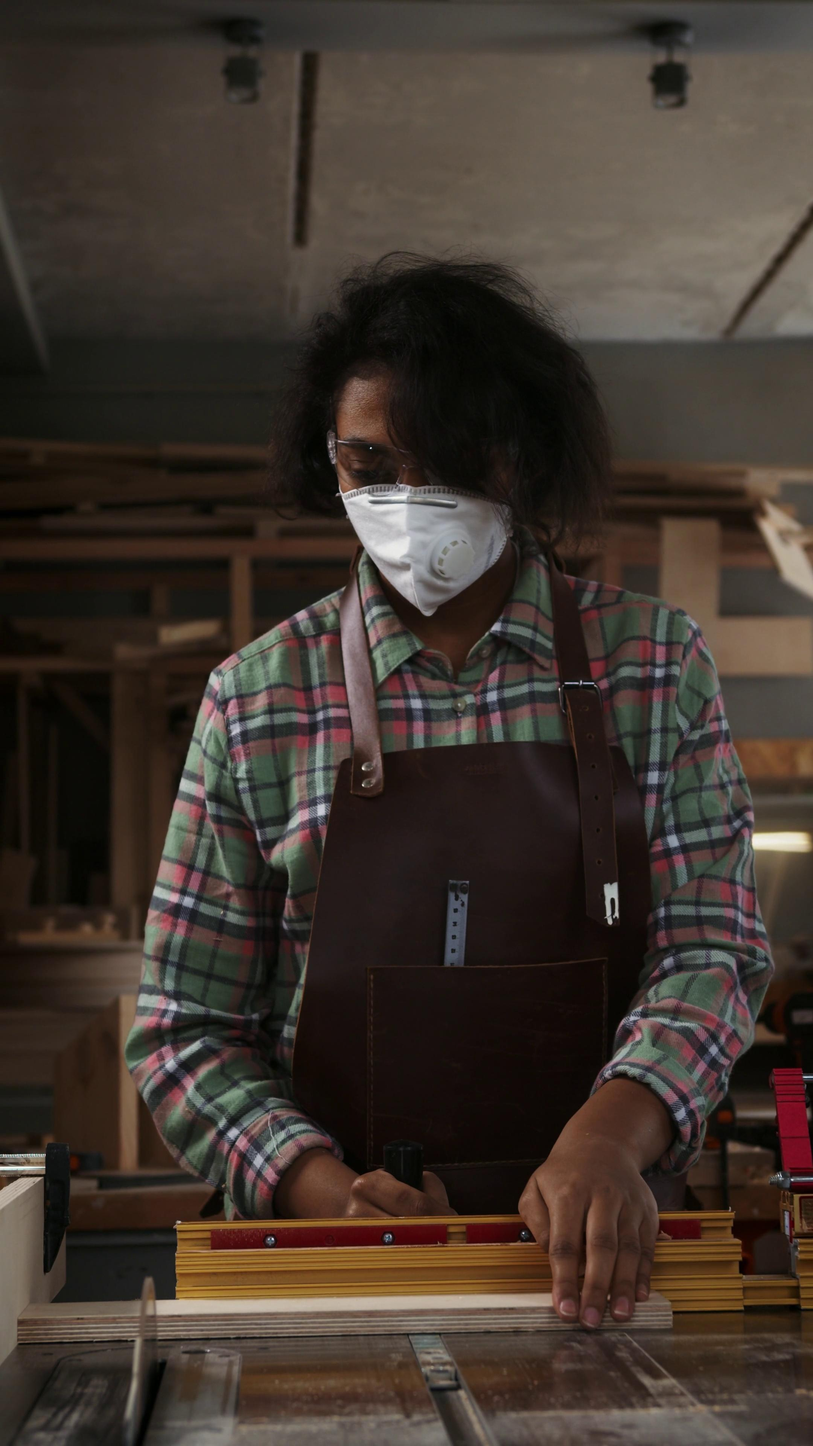mask: (333, 480, 513, 617)
person: (131, 243, 775, 1329)
